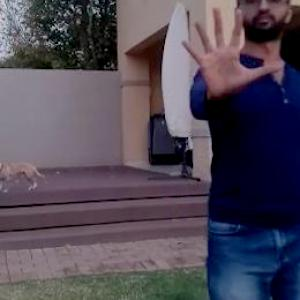follow_hand: (176, 1, 288, 106)
